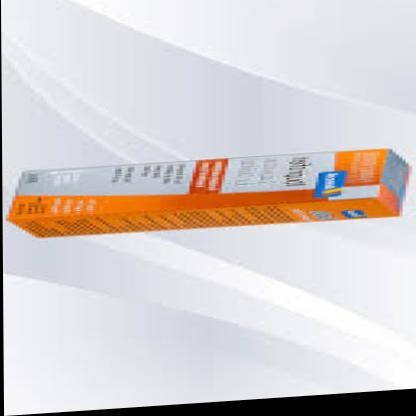trash: (8, 149, 408, 236)
